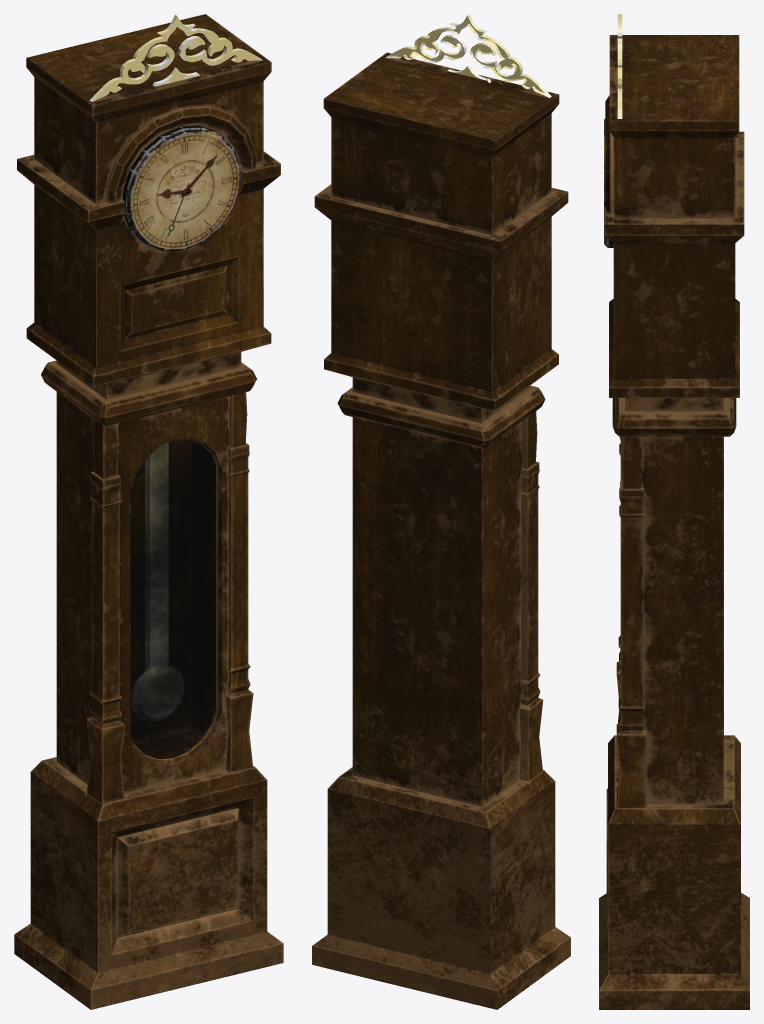
Rendered from clock.glb.
3 renders of one model, left to right at view 1: azimuth 30°, elevation 25°; view 2: azimuth 150°, elevation 25°; view 3: azimuth 270°, elevation 25°, orthographic. The views are drawn at different scales.
Visible parts, largest first — view 1: Curve.001; view 2: Curve.001; view 3: Curve.001.
Part boxes in pixels (x1,y1,x2,y2): Curve.001: [14, 14, 283, 1009]; Curve.001: [312, 14, 570, 1009]; Curve.001: [599, 14, 749, 1009].
Size of the model in its own units: 0.4193 by 2 by 0.288.
1 material, 1 textured.
